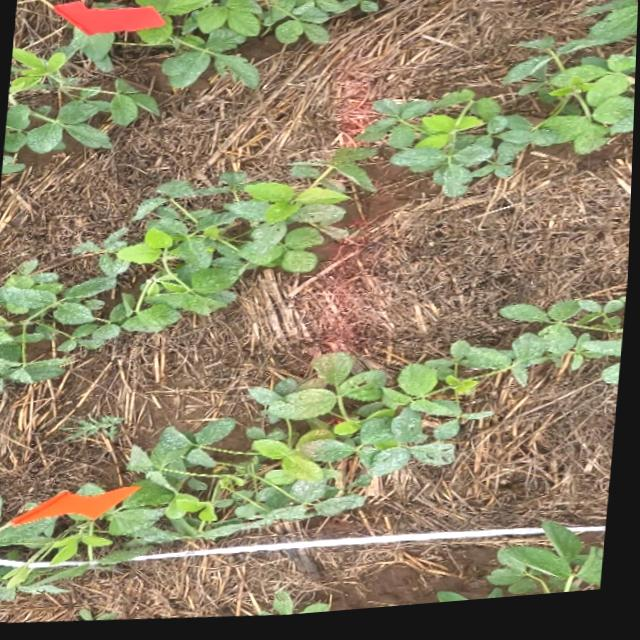soy_plant: (0, 310, 627, 598), (0, 154, 376, 394), (363, 9, 638, 204), (136, 0, 381, 90), (3, 29, 155, 173), (549, 559, 606, 599), (267, 605, 331, 620)
